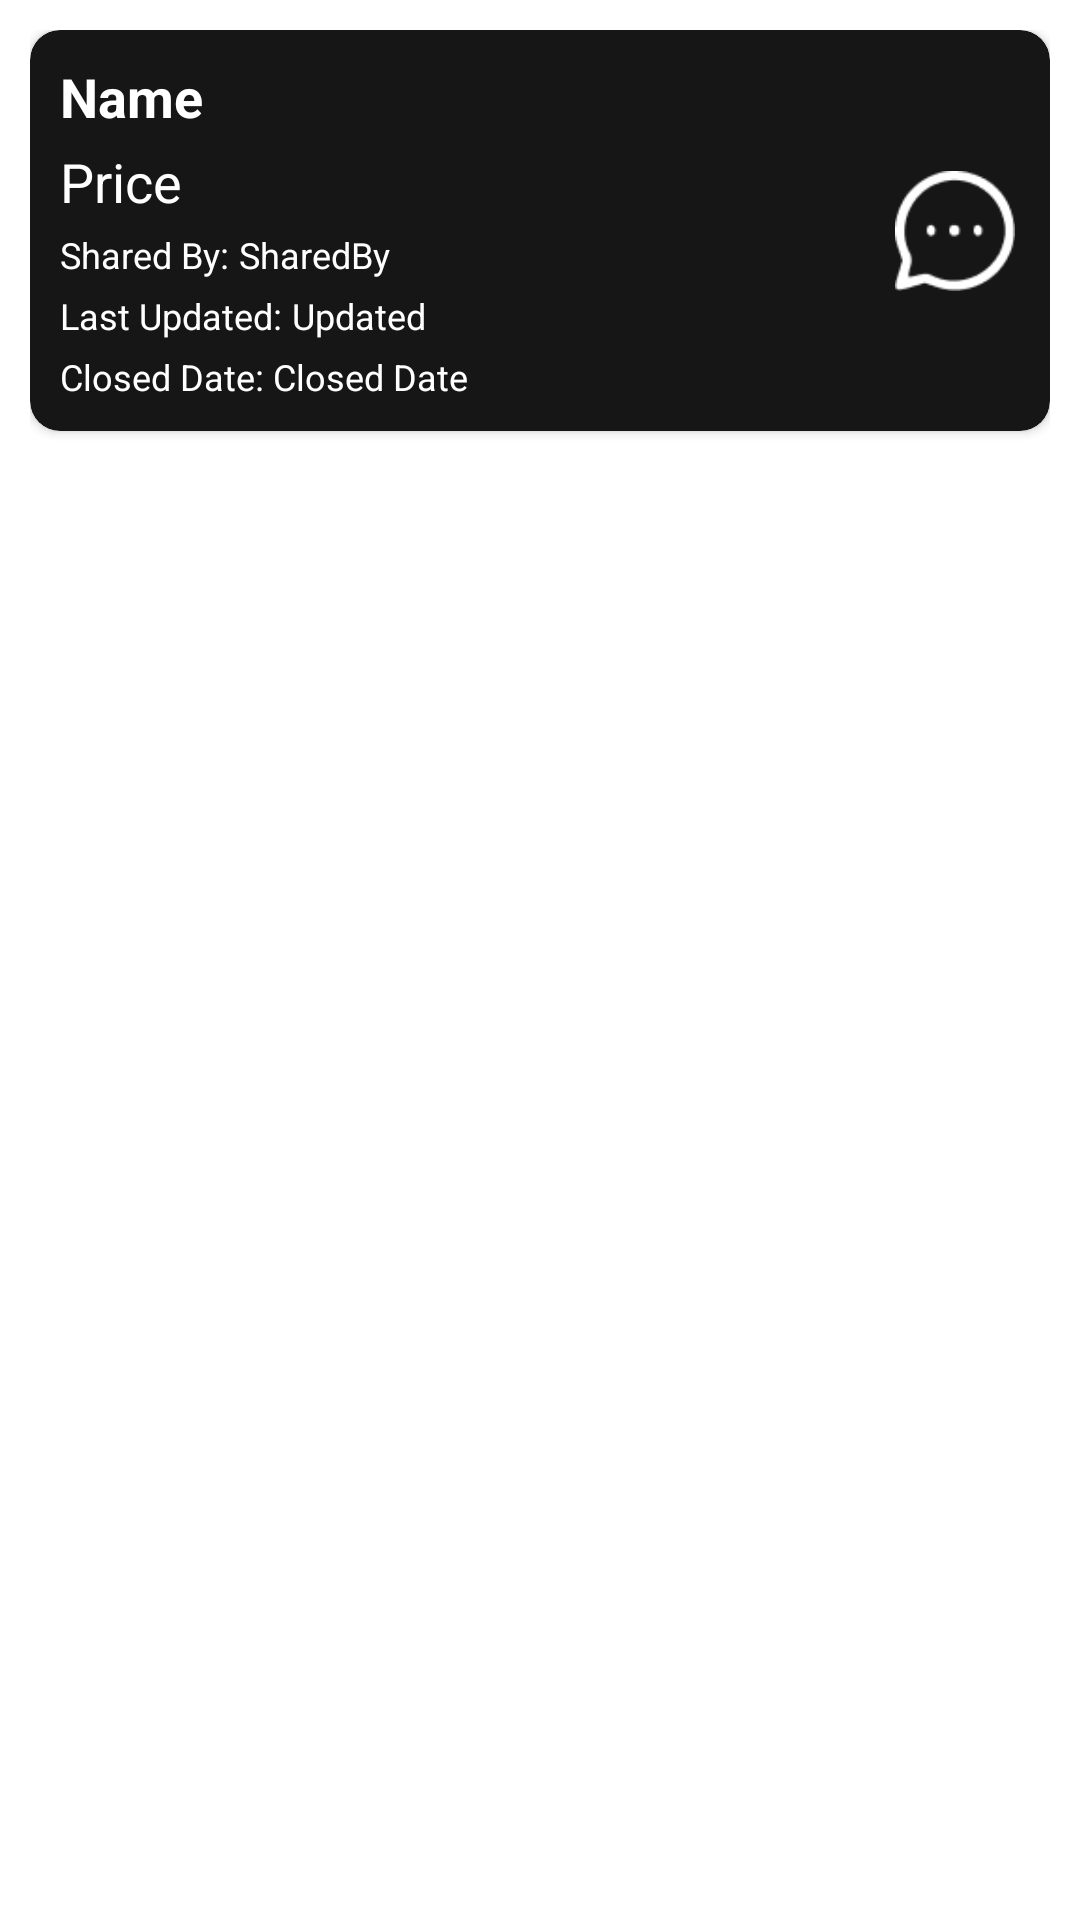

Where icons sit on this 1080x1920 app screen, as (x1, y1, x2, y2):
messenger: (895, 171, 1015, 291)
